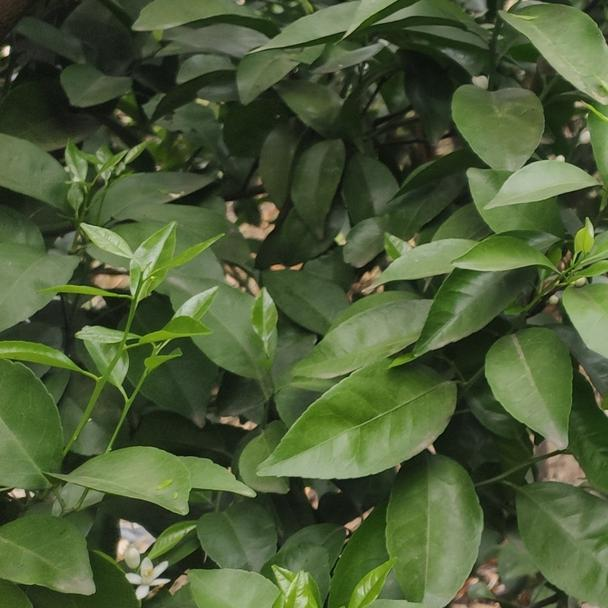shoot: (49, 225, 230, 393)
